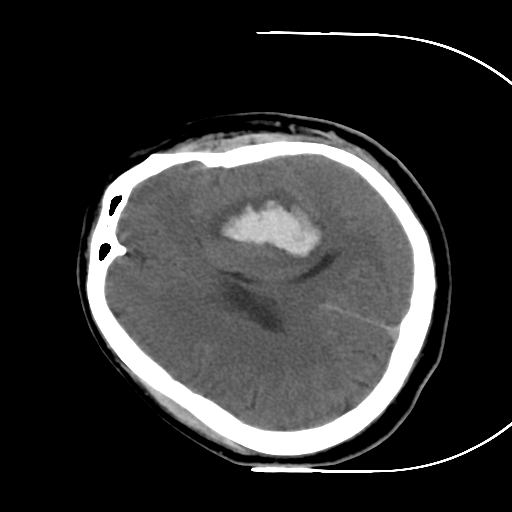a: (196, 176, 341, 279)
